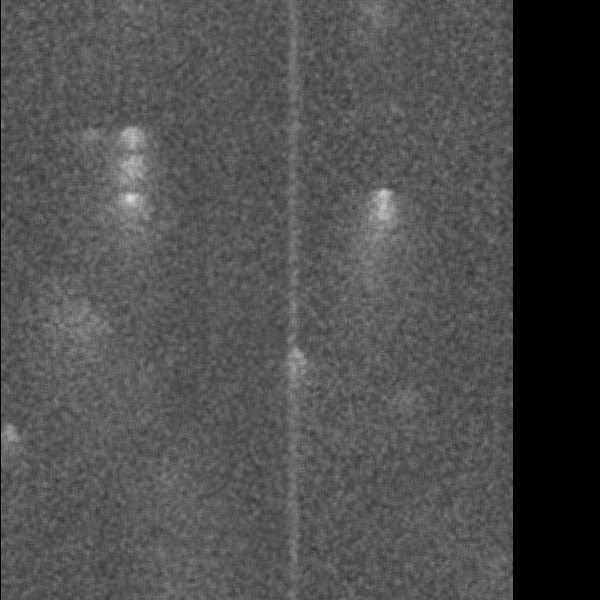spark: (105, 118, 153, 266), (366, 181, 398, 299), (283, 339, 310, 386), (1, 421, 23, 466)
